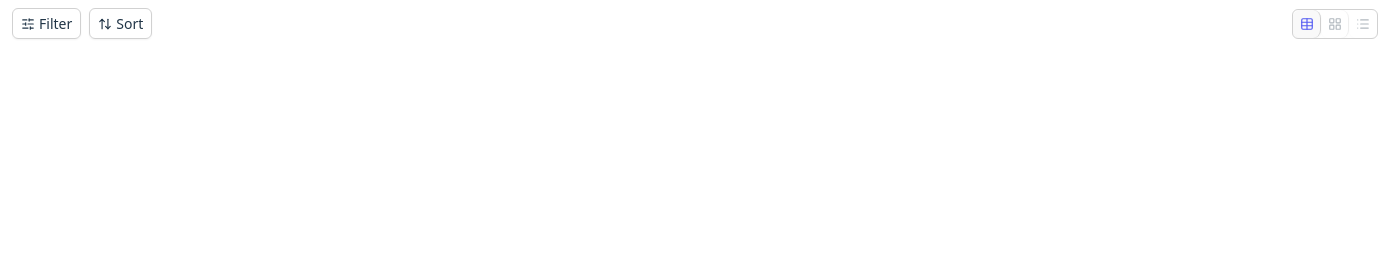
Test case: SearchControls Component › shows the sort panel on Sort button click
The width and height of the screenshot is (1390, 273).
What coordinates should you click on to do the following:
click the button with aria-label "toggle sort"
I would click on:
 (121, 24)
Its box is [89,8,152,39].
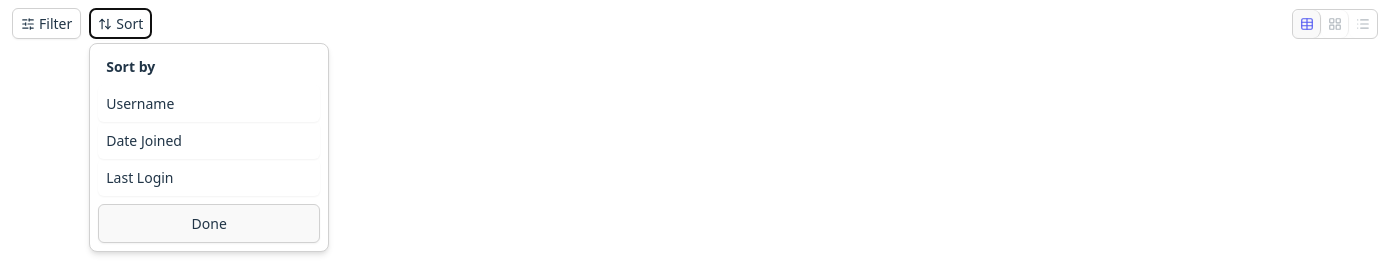
Expected: the text "Sort by" is shown, [106,56,155,77]
